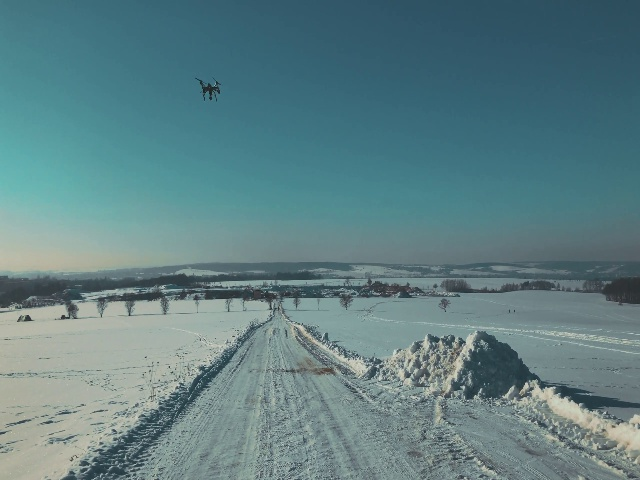drone: (192, 76, 226, 104)
